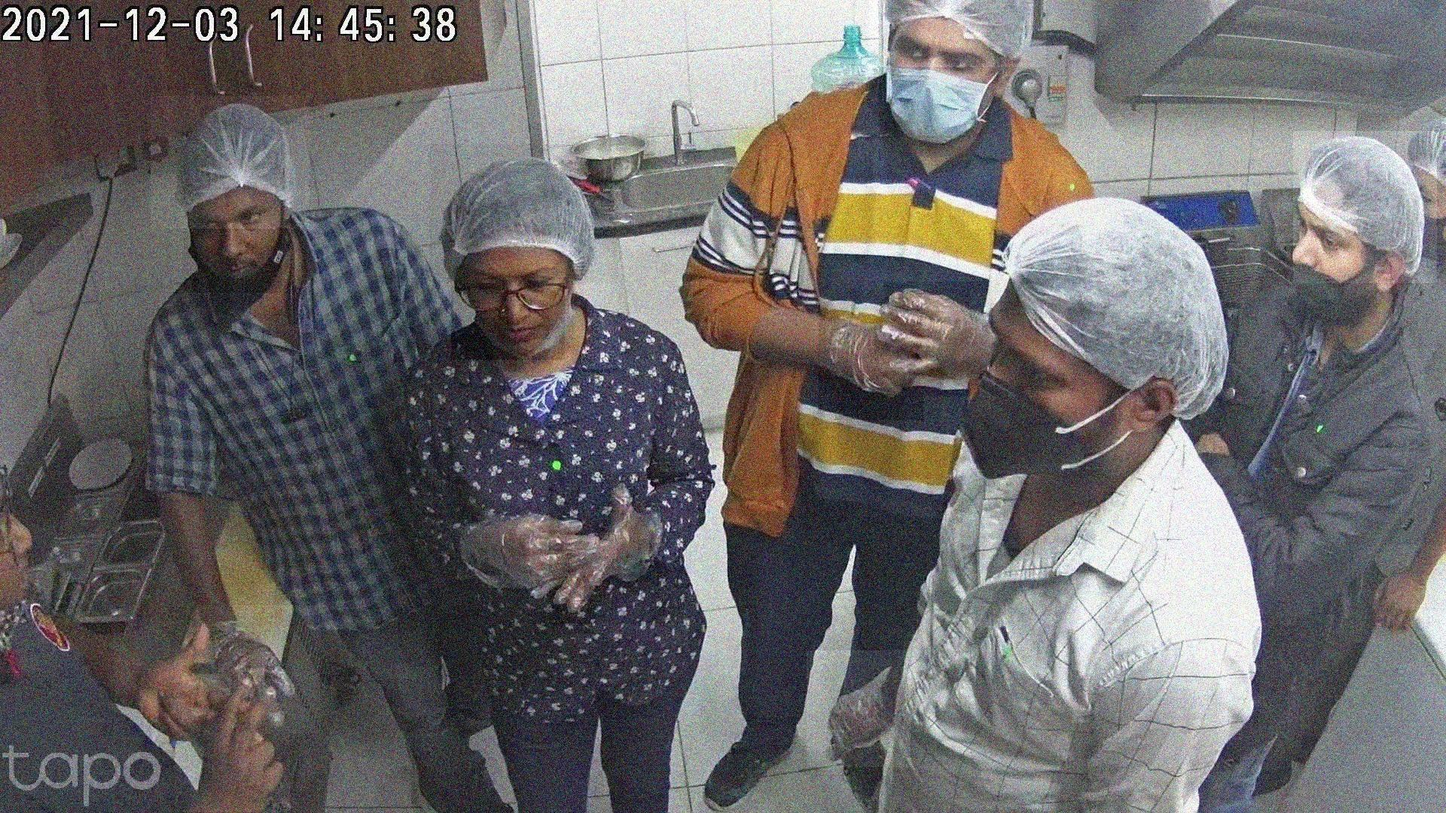apron: (549, 472, 691, 624), (443, 485, 593, 608), (197, 606, 320, 734), (885, 282, 993, 397), (819, 302, 924, 420), (807, 650, 911, 767)
gloves: (1000, 189, 1235, 424), (430, 144, 618, 283), (1294, 131, 1438, 283), (151, 96, 310, 230), (869, 0, 1046, 67), (1407, 108, 1446, 193)
mask: (953, 350, 1092, 464), (879, 38, 983, 138)
no_apron: (175, 650, 290, 813), (114, 621, 220, 740), (1356, 545, 1446, 643)
no_hairnet: (451, 258, 565, 361), (184, 193, 282, 293), (0, 525, 57, 673), (1280, 209, 1363, 275)
